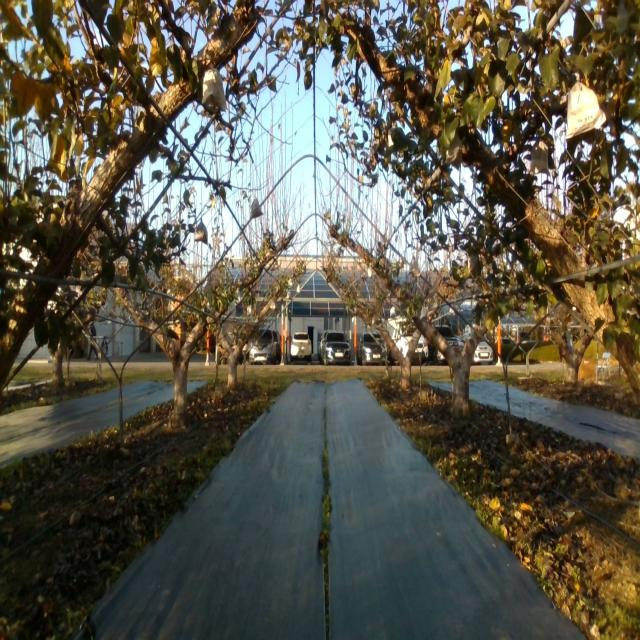pearbags: (564, 81, 606, 140), (202, 67, 228, 111), (530, 140, 550, 174), (250, 198, 263, 220), (195, 222, 208, 242), (409, 255, 420, 276)
